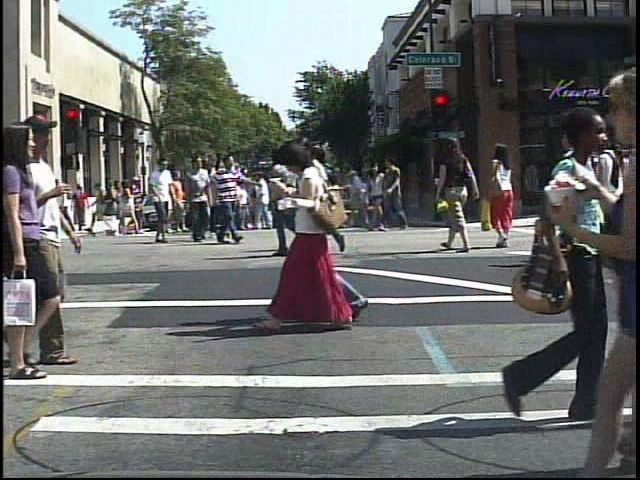person: (25, 107, 99, 369), (266, 136, 354, 337), (1, 116, 65, 383), (300, 129, 376, 329), (556, 118, 597, 270), (266, 135, 312, 264), (589, 132, 630, 276), (432, 134, 478, 248), (310, 150, 356, 260), (292, 141, 334, 251), (487, 141, 521, 255), (208, 152, 246, 246), (183, 155, 219, 248), (581, 146, 614, 245), (144, 155, 177, 246), (125, 173, 147, 241), (73, 182, 93, 232)
